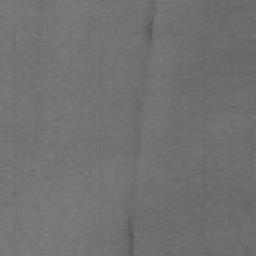Inclusion: (122, 0, 159, 256)
